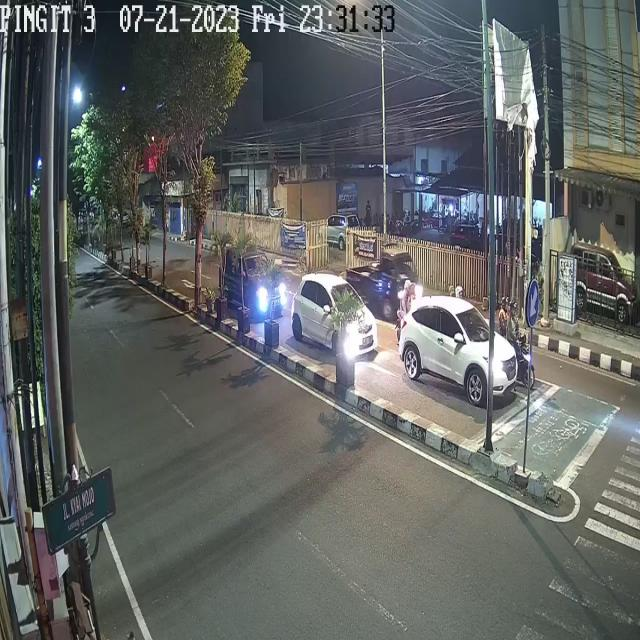car: (394, 297, 518, 412), (292, 272, 373, 360), (220, 245, 286, 324)
motorcycle: (499, 291, 532, 390)
truck: (348, 245, 422, 322)
